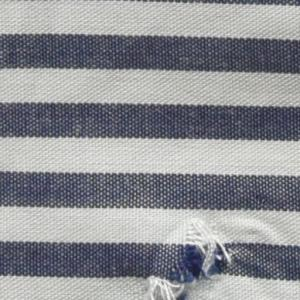Damage: (142, 213, 293, 300)
